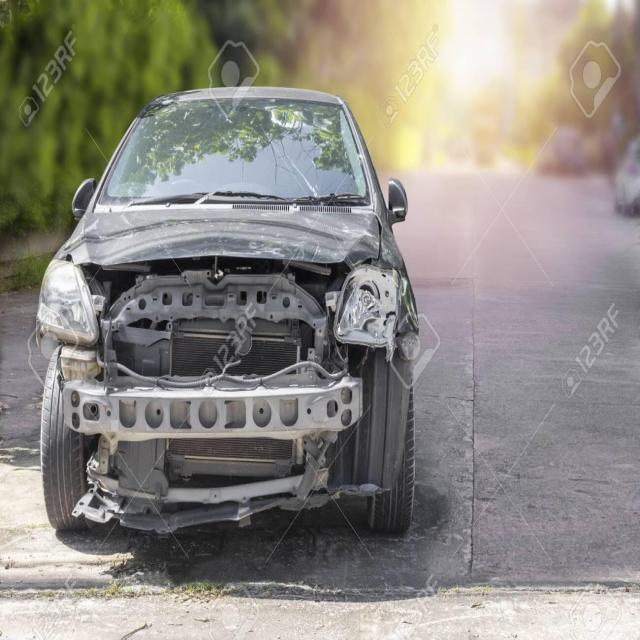damaged: (39, 228, 406, 526)
